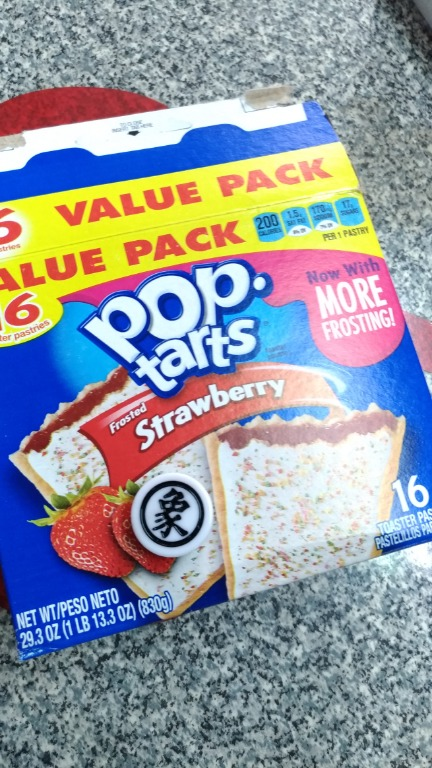b-elephant: (118, 460, 245, 577)
